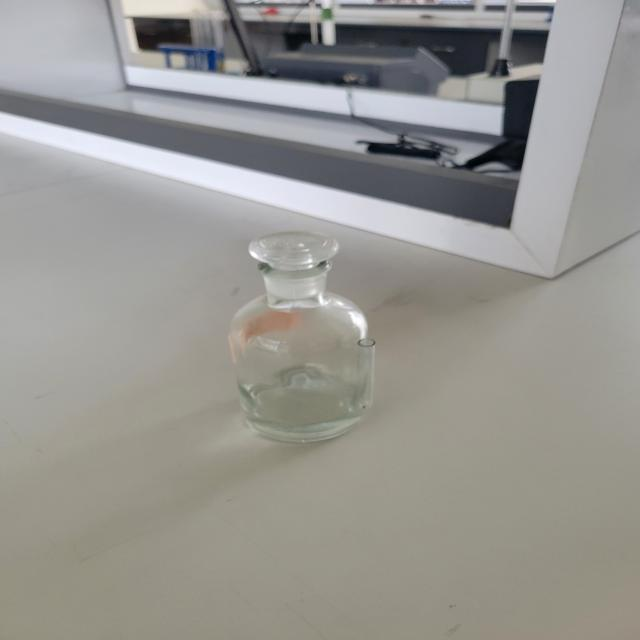Reagent_Bottle: (189, 199, 407, 465)
